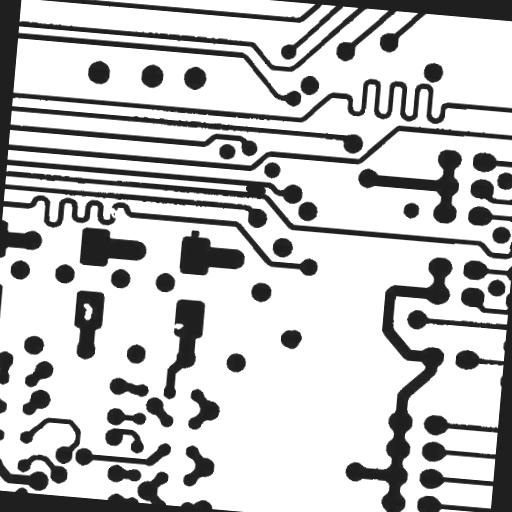copper: (272, 320, 310, 358)
mousebite: (164, 315, 191, 338)
open: (99, 199, 126, 226)
pin-hole: (74, 295, 101, 328)
short: (236, 175, 274, 206)
spur: (180, 222, 208, 252)
